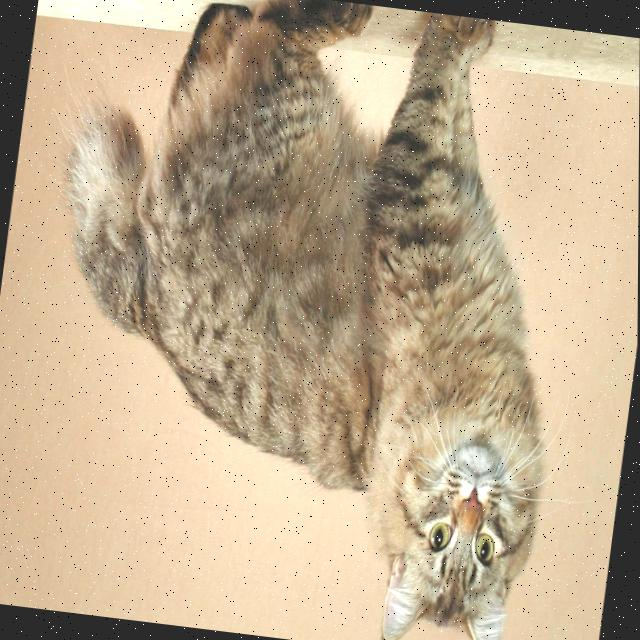American Bobtail: (4, 0, 604, 640)
